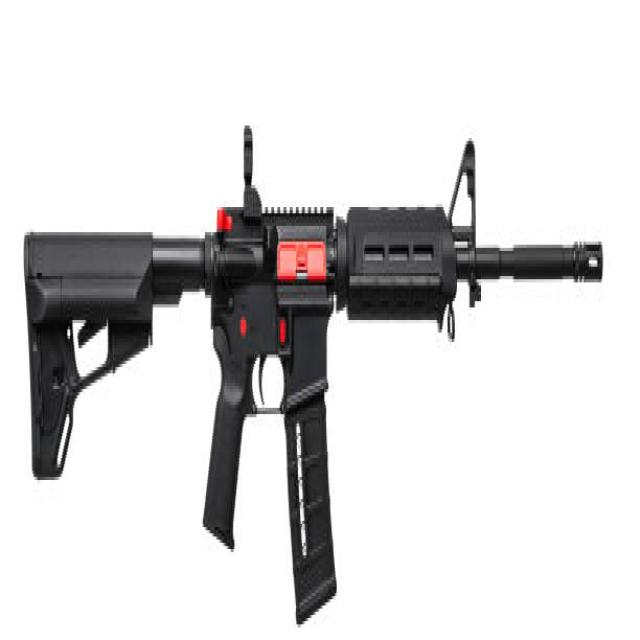rifle: (12, 107, 606, 640)
